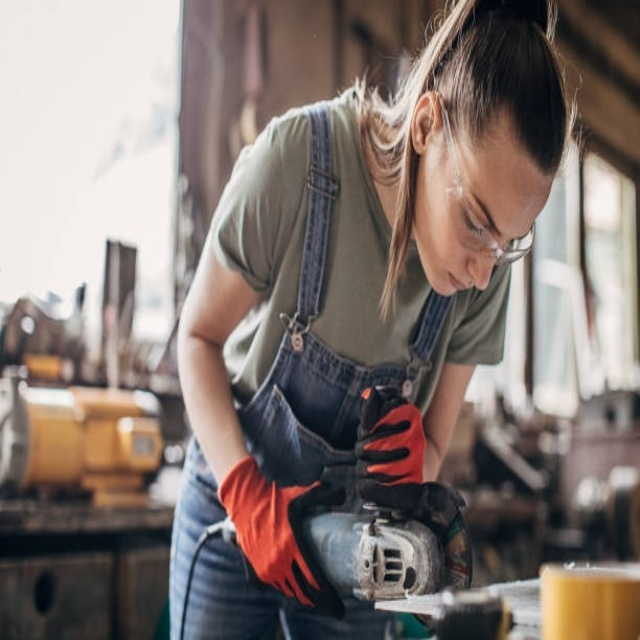Gafas: (440, 100, 534, 260)
Guantes: (218, 455, 338, 613), (355, 399, 427, 484)
Sin_mascara: (433, 257, 490, 304)
